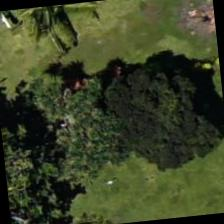Kelapa_Sawit: (0, 2, 93, 59)
